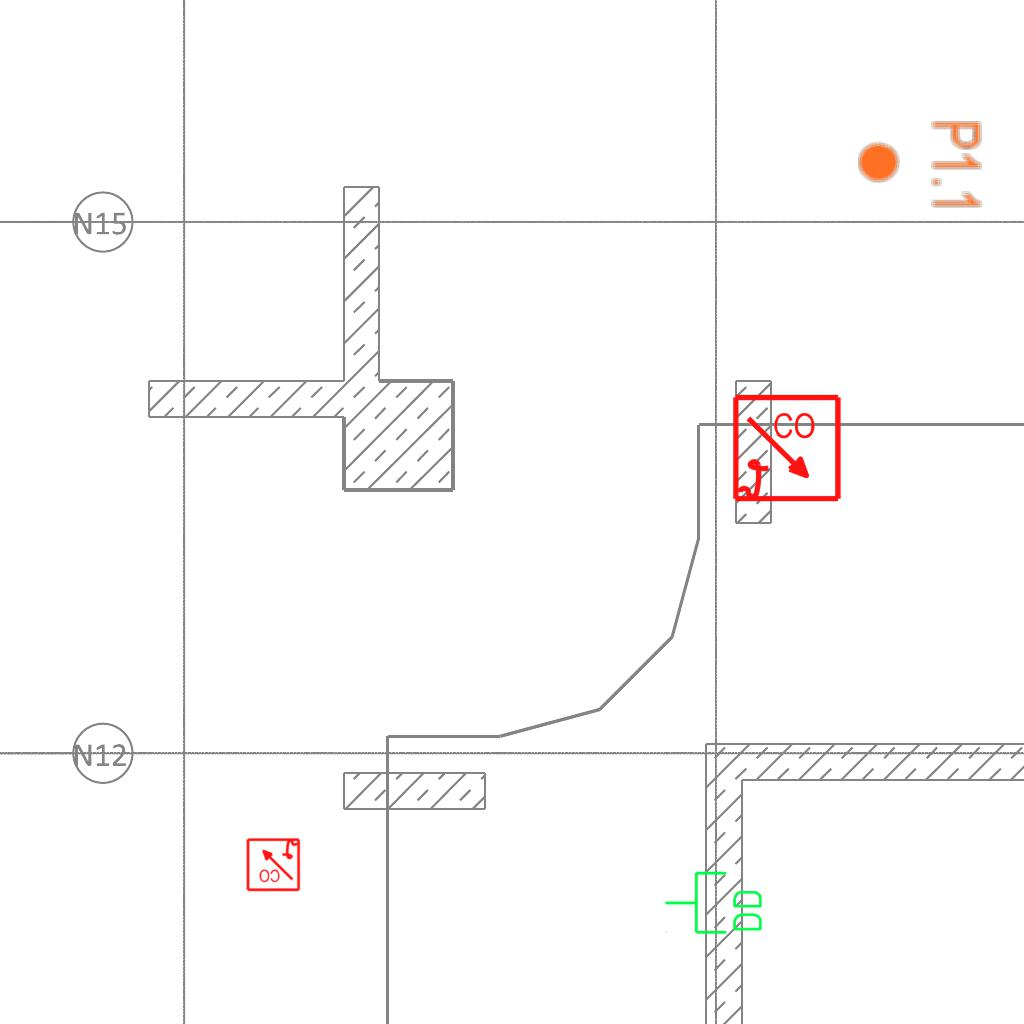Datenanschluss_zweifach: (663, 869, 766, 938)
Downlight_LED_Einbauleuchten_Flur: (856, 119, 984, 212)
ROA_Rauchmelder_optisch_mit_Signalgeber_(Sockelsirene): (731, 393, 844, 506), (245, 836, 301, 892)
